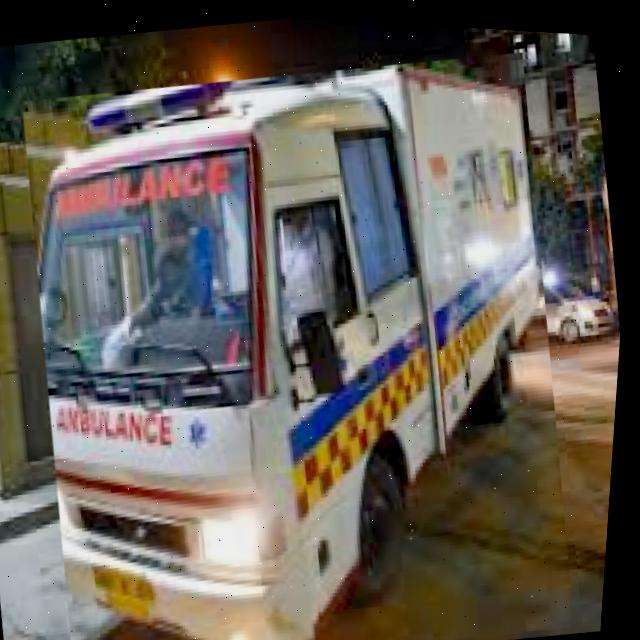Ambulance: (0, 24, 610, 640)
